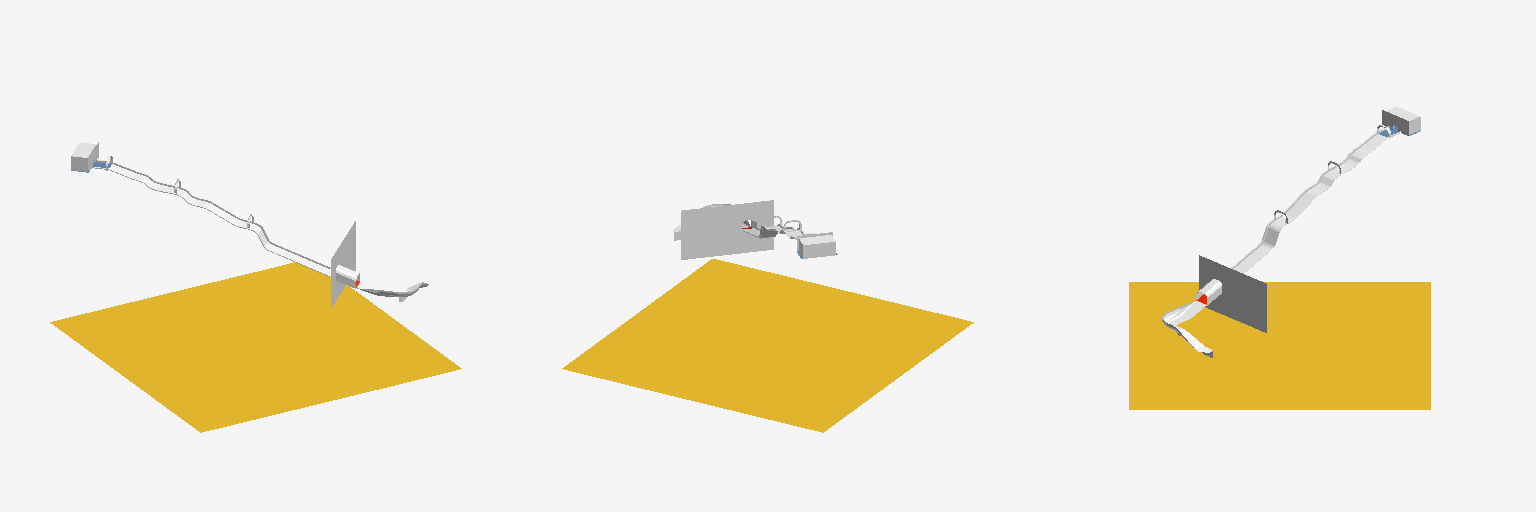
File: Tall Tall Mountain Area 2.obj
3 views of the same model, side by side, from view 1: azimuth 30°, elevation 25°; view 2: azimuth 150°, elevation 25°; view 3: azimuth 270°, elevation 25° (orthographic).
Bounding box in the file's own units: 32766 × 21440 × 32766.